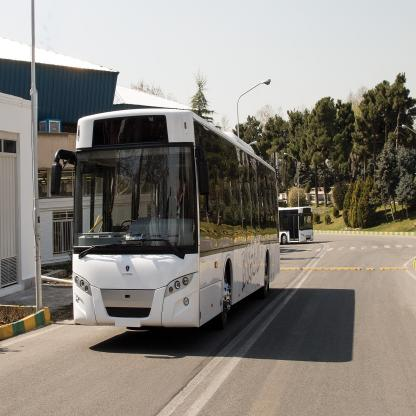Bus: (53, 111, 281, 329), (280, 207, 317, 248)
